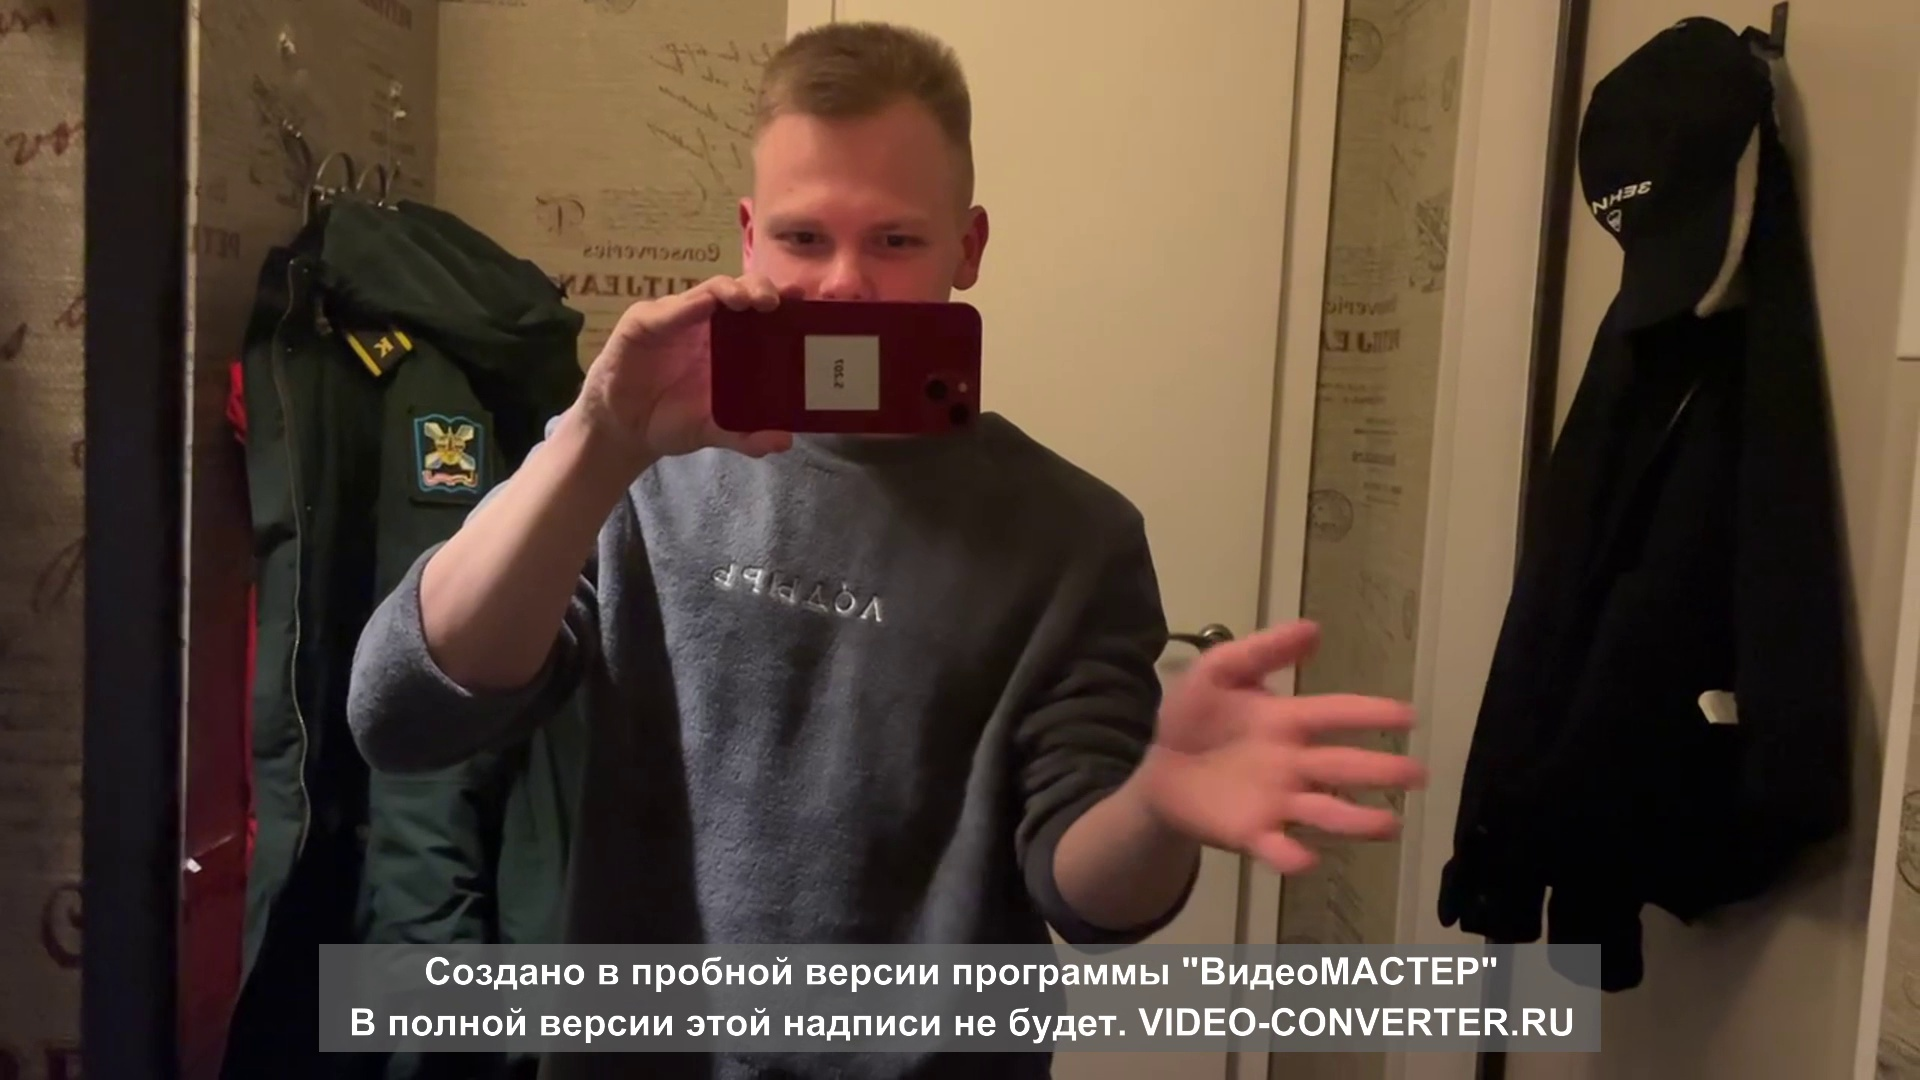Ладонь: (1154, 616, 1427, 876)
